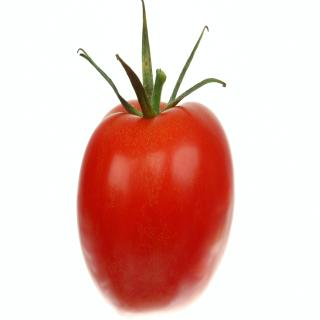Tomat: (77, 2, 237, 318)
